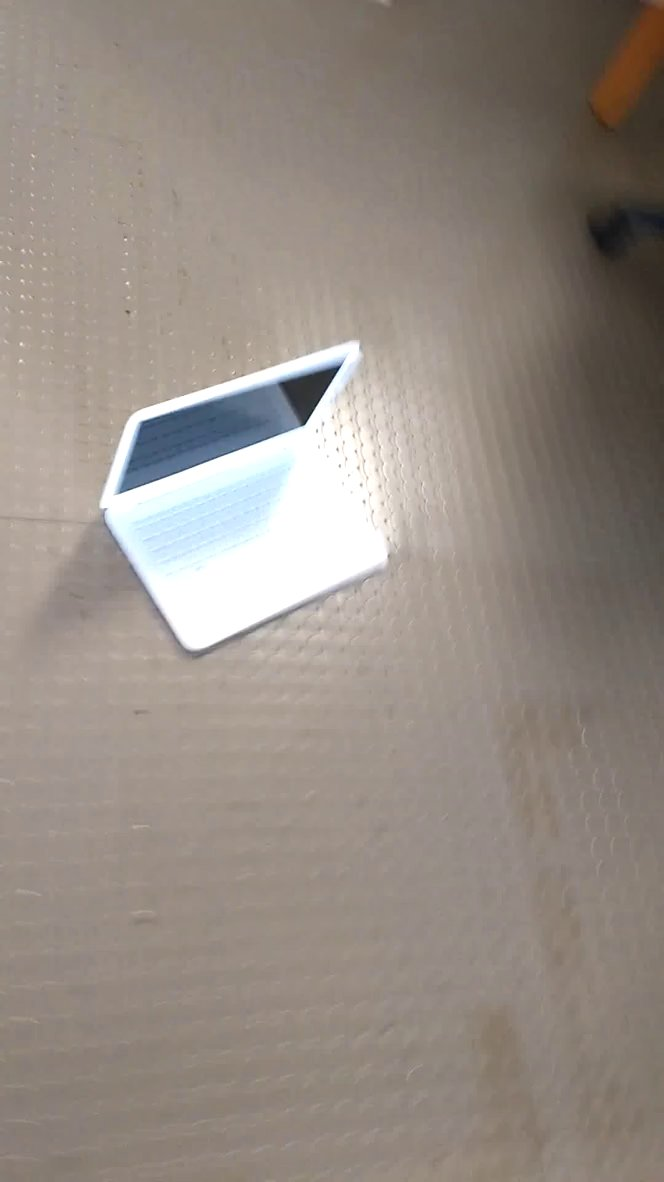laptop: (90, 335, 397, 659)
